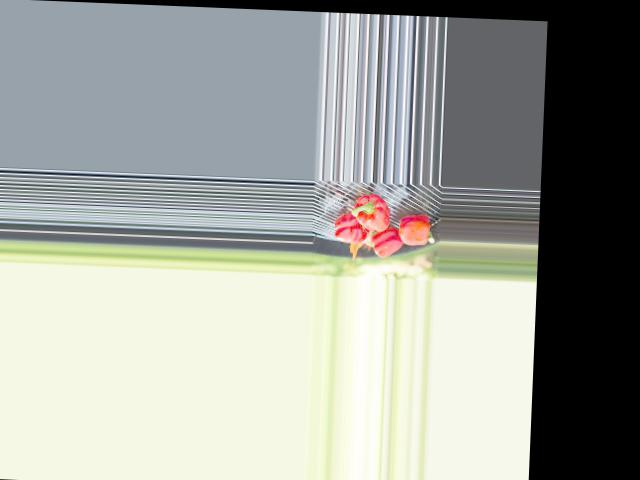bell_pepper: (332, 213, 370, 245)
